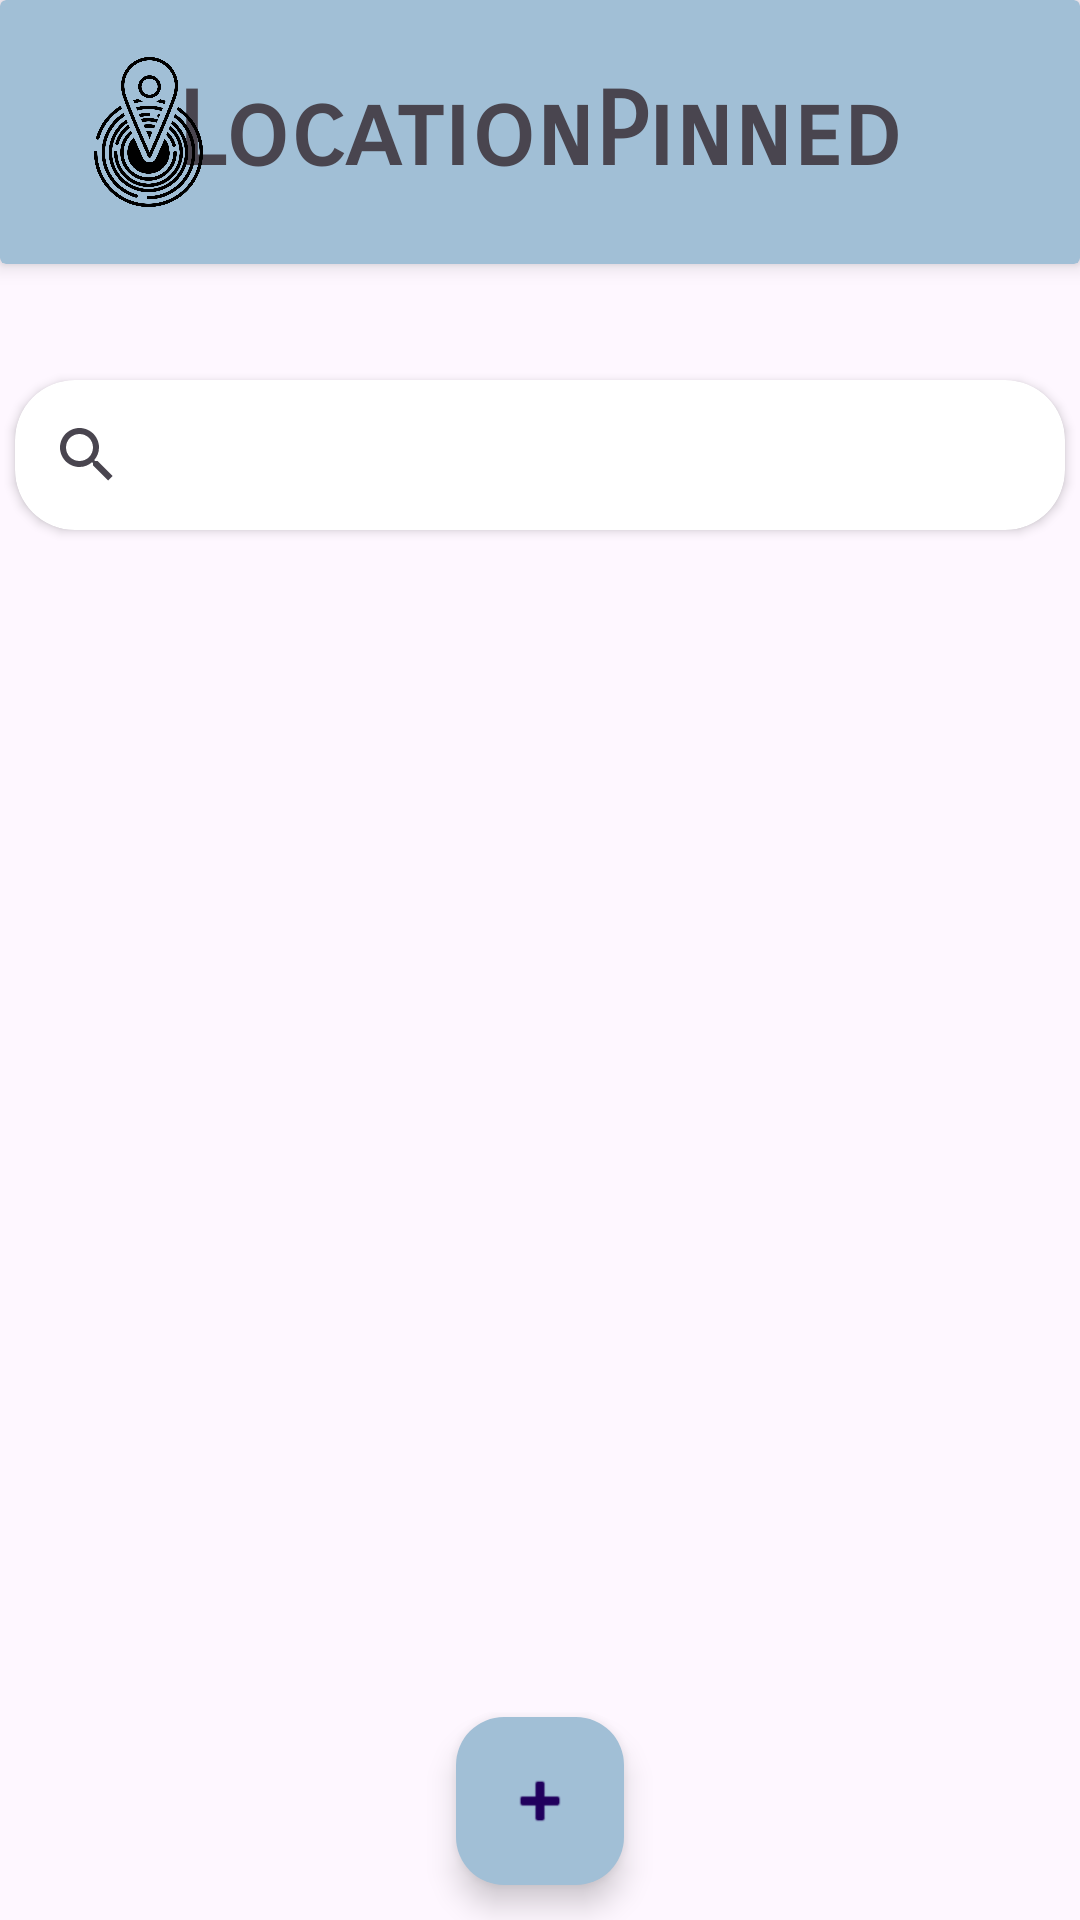

Screen size 1080×1920. Icon name, then its center in pixels as point (x, y):
add: point (540, 1801)
